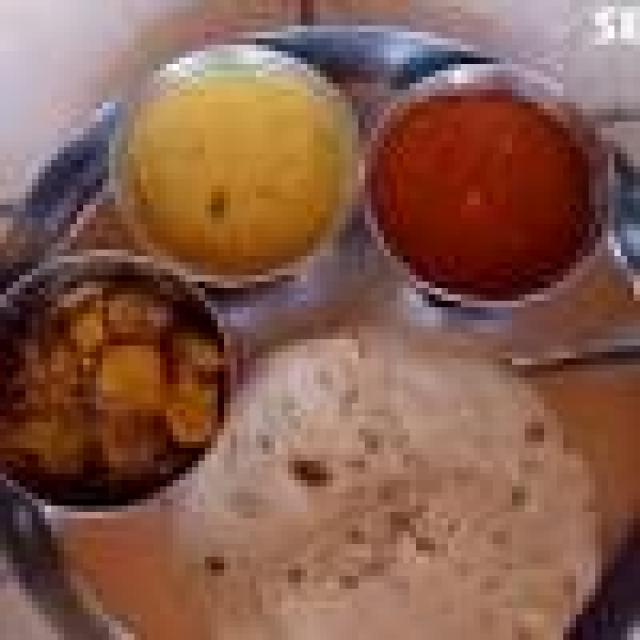dal: (133, 64, 354, 288)
roti: (216, 315, 581, 640)
sambar-rasam: (387, 98, 602, 294)
veg: (5, 258, 222, 503)
